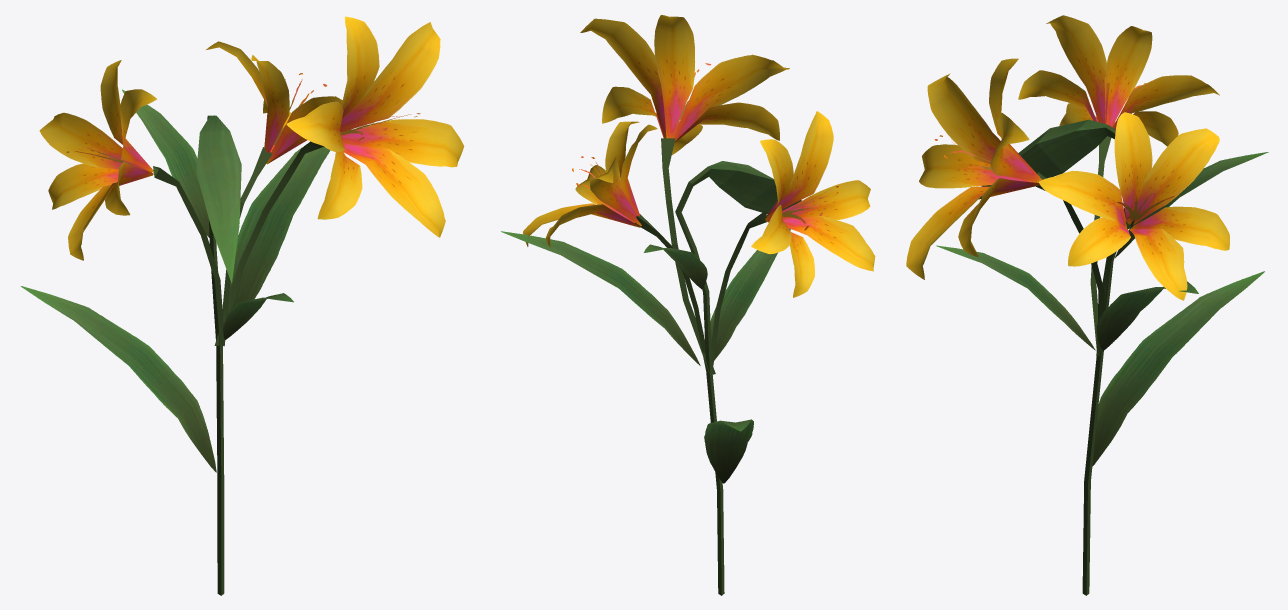
Rendered from CollectibleFlower.fbx.
3 renders of one model, left to right at view 1: azimuth 30°, elevation 25°; view 2: azimuth 150°, elevation 25°; view 3: azimuth 270°, elevation 25°, orthographic. The views are drawn at different scales.
Parts seen in each view (by area): view 1: ItemBox_Flower_01_active; view 2: ItemBox_Flower_01_active; view 3: ItemBox_Flower_01_active.
Boxes of the visible parts, bbox=[...] form: ItemBox_Flower_01_active: bbox=[21, 16, 464, 595]; ItemBox_Flower_01_active: bbox=[501, 15, 875, 595]; ItemBox_Flower_01_active: bbox=[906, 15, 1268, 595].
Bounding box in the file's own units: 0.7619 × 1.22 × 0.7023.
1 material, 1 textured.
